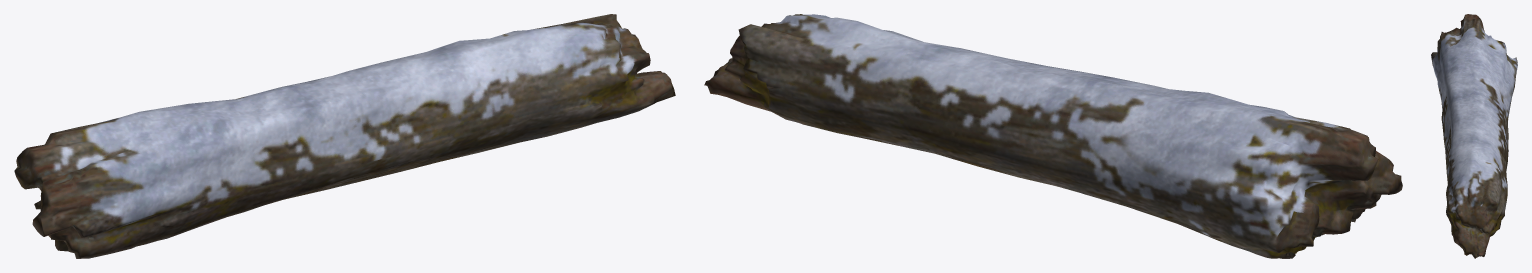
Rendered from snowy_fallen_tree.glb.
3 views of the same model, side by side, from view 1: azimuth 30°, elevation 25°; view 2: azimuth 150°, elevation 25°; view 3: azimuth 270°, elevation 25° (orthographic). The views are drawn at different scales.
Visible parts, largest first — view 1: Object_2; view 2: Object_2; view 3: Object_2.
Part boxes in pixels (<box>): Object_2: <box>14,14,675,258</box>; Object_2: <box>704,14,1402,258</box>; Object_2: <box>1431,14,1517,258</box>.
Bounding box in the file's own units: 80.66 × 14.85 × 15.65.
1 material, 1 textured.
